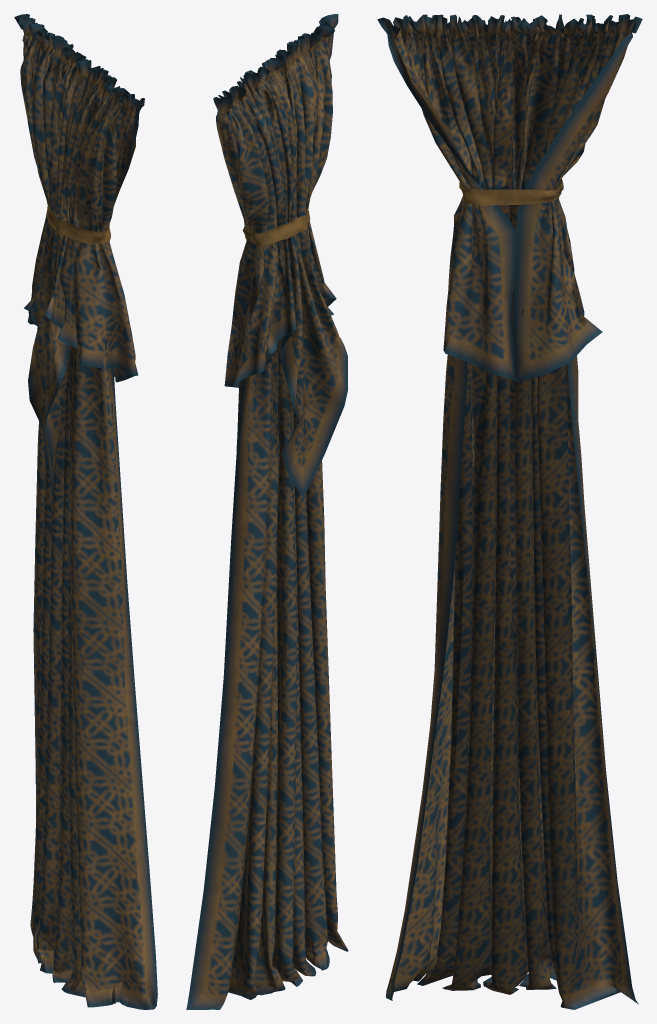
File: SM_CurtainBigSide.fbx
3 views of the same model, side by side, from view 1: azimuth 30°, elevation 25°; view 2: azimuth 150°, elevation 25°; view 3: azimuth 270°, elevation 25° (orthographic). The views are drawn at different scales.
Parts seen in each view (by area): view 1: SM_CurtainBigSide_LOD0; view 2: SM_CurtainBigSide_LOD0; view 3: SM_CurtainBigSide_LOD0.
Boxes of the visible parts, x1,y1,x2,y2 form: SM_CurtainBigSide_LOD0: (14, 14, 157, 1009); SM_CurtainBigSide_LOD0: (186, 14, 348, 1009); SM_CurtainBigSide_LOD0: (377, 14, 642, 1009).
Size of the model in its own units: 59.75 by 141 by 570.
1 material, 1 textured.
